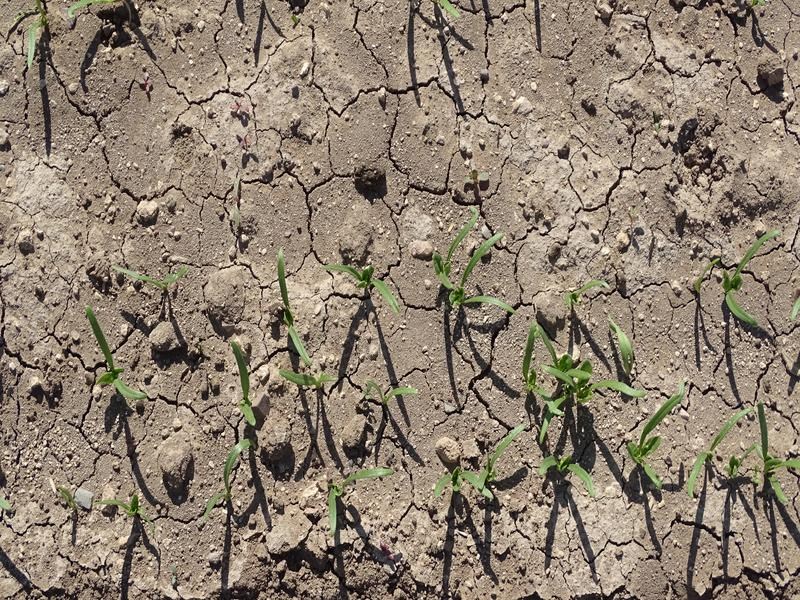Espinaca: (521, 292, 641, 428), (692, 404, 800, 500), (431, 208, 518, 312), (698, 236, 790, 327), (433, 421, 525, 501), (77, 301, 150, 401), (617, 395, 685, 491), (318, 461, 397, 535), (267, 251, 317, 362), (200, 436, 254, 518), (324, 258, 403, 313), (231, 339, 261, 425), (541, 454, 596, 498), (109, 261, 190, 288), (364, 375, 421, 407), (275, 367, 337, 389)
